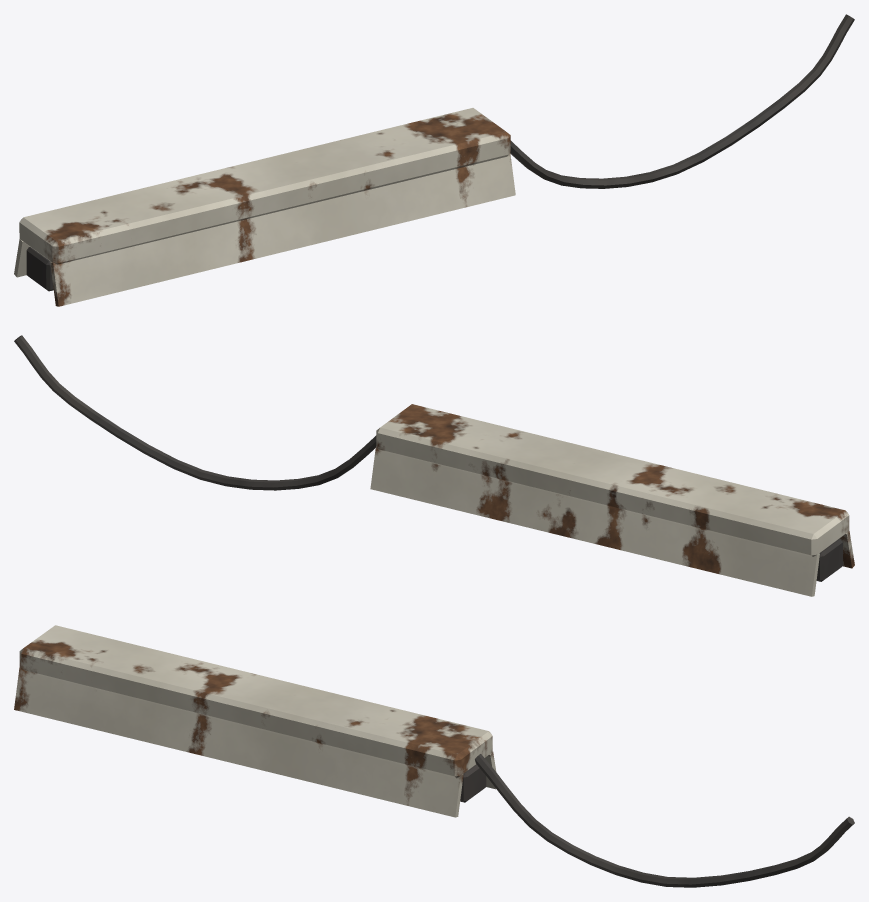
Rendered from ShackLight.fbx.
The picture shows the model from 3 angles, top to bottom: view 1: azimuth 30°, elevation 25°; view 2: azimuth 150°, elevation 25°; view 3: azimuth 330°, elevation 25°; orthographic projection. The views are drawn at different scales.
Visible parts, largest first — view 1: ShackLight; view 2: ShackLight; view 3: ShackLight.
Boxes of the visible parts, x1,y1,x2,y2 form: ShackLight: (14, 14, 854, 306); ShackLight: (14, 335, 854, 596); ShackLight: (14, 625, 854, 887).
Bounding box in the file's own units: 179 × 22.65 × 16.61.
Materials: 1 (1 with a texture image).
